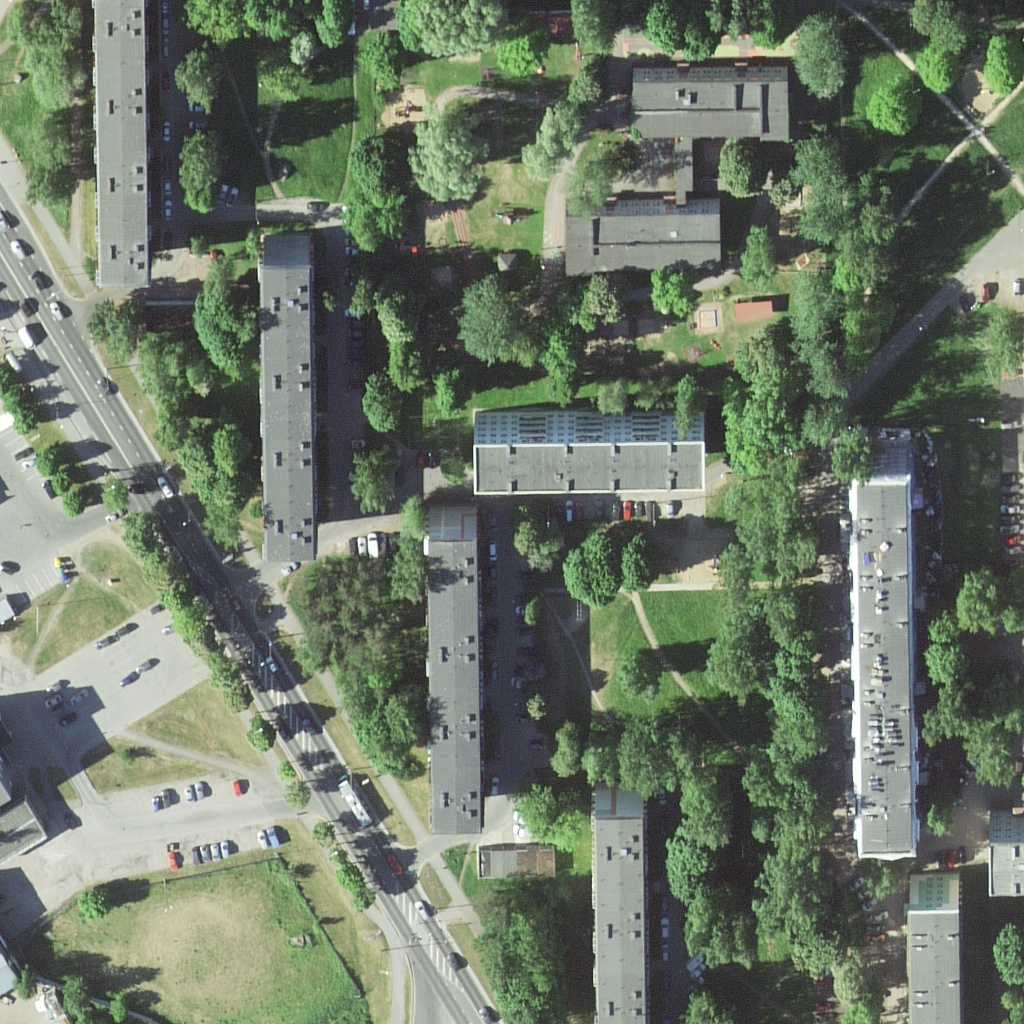building: (845, 436, 923, 864), (418, 505, 487, 839), (258, 231, 321, 565), (91, 1, 162, 292), (474, 411, 710, 498), (628, 57, 791, 148), (591, 790, 654, 1024), (562, 195, 722, 276), (905, 869, 961, 1024)
